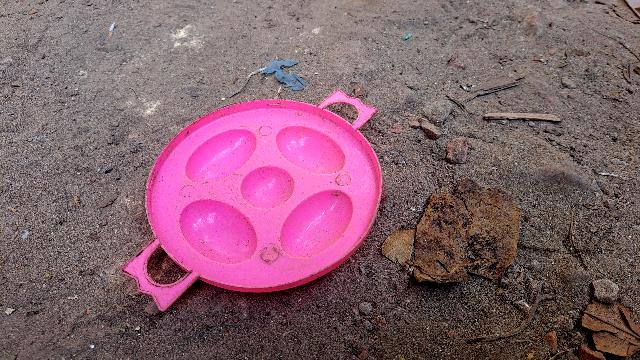hardplastic: (122, 87, 395, 315)
